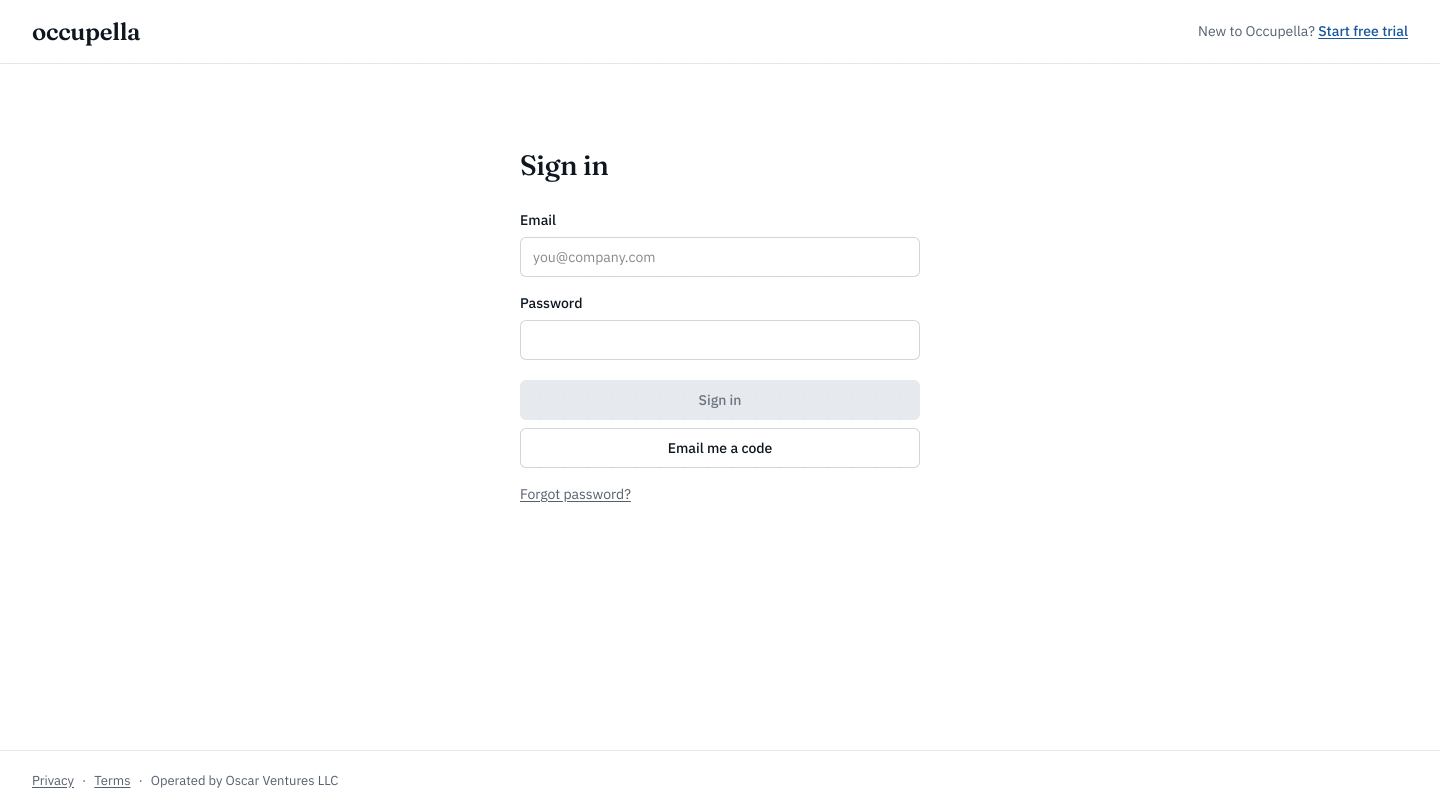
Test: what the user is told › says the same thing whether or not the account exists
The width and height of the screenshot is (1440, 810).
Type "nobody@example.com" into the field with placeholder "you@company.com".
click(720, 257); type("nobody@example.com")  # box [520, 237, 920, 277]
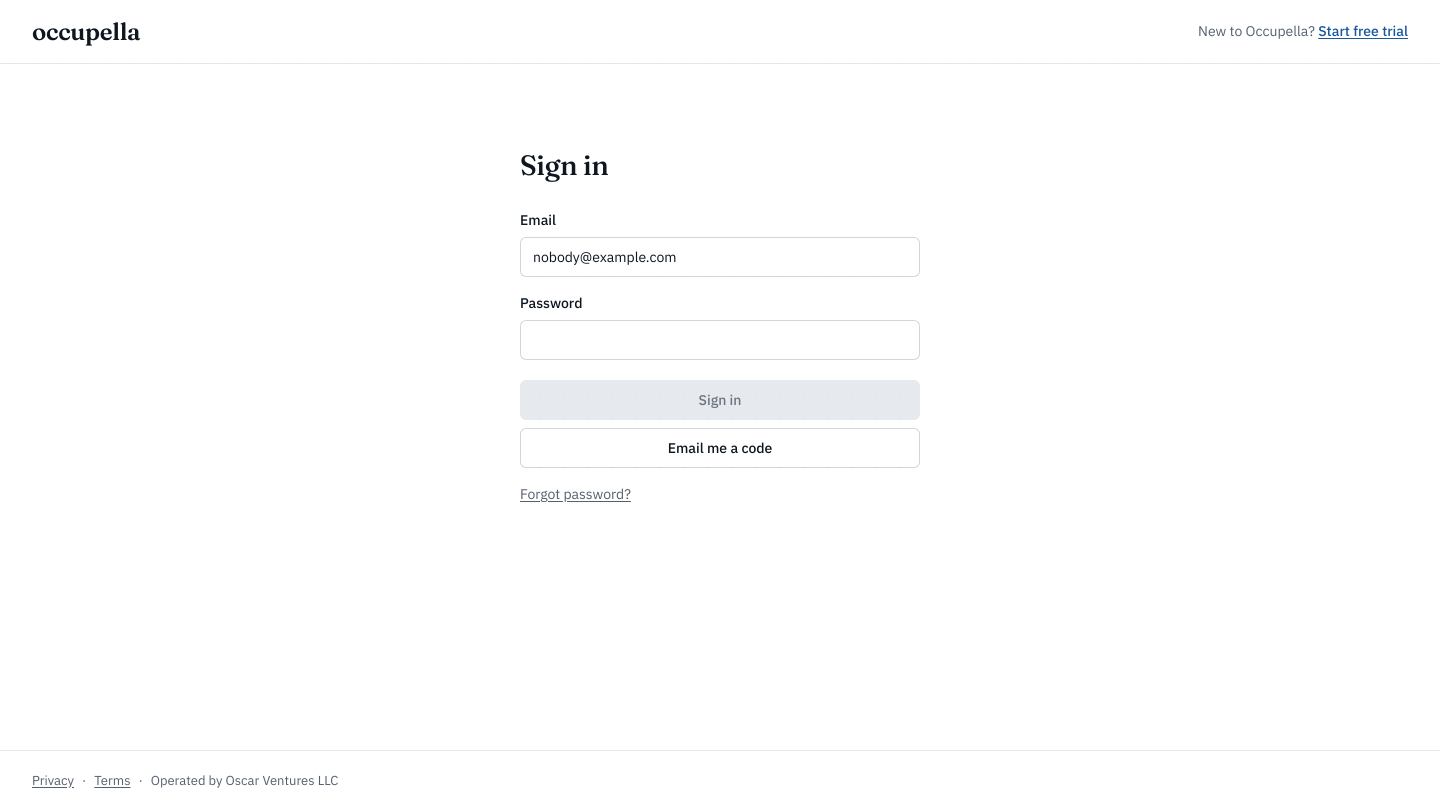
Click the button "Forgot password?".
click(575, 494)  # box [520, 484, 631, 505]
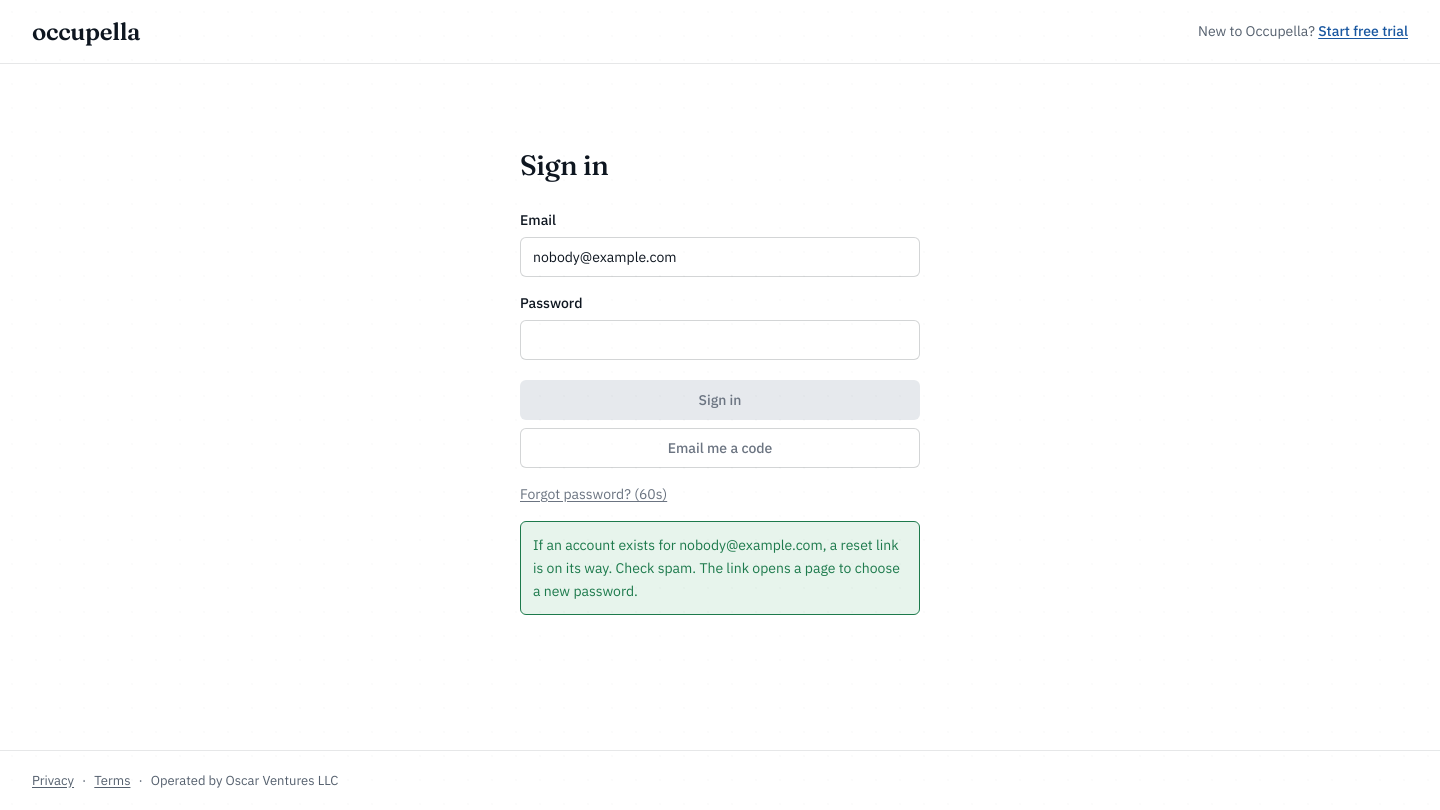
Expected: the text "reset link is on its way" shows "If an account exists", [533, 536, 900, 600]
